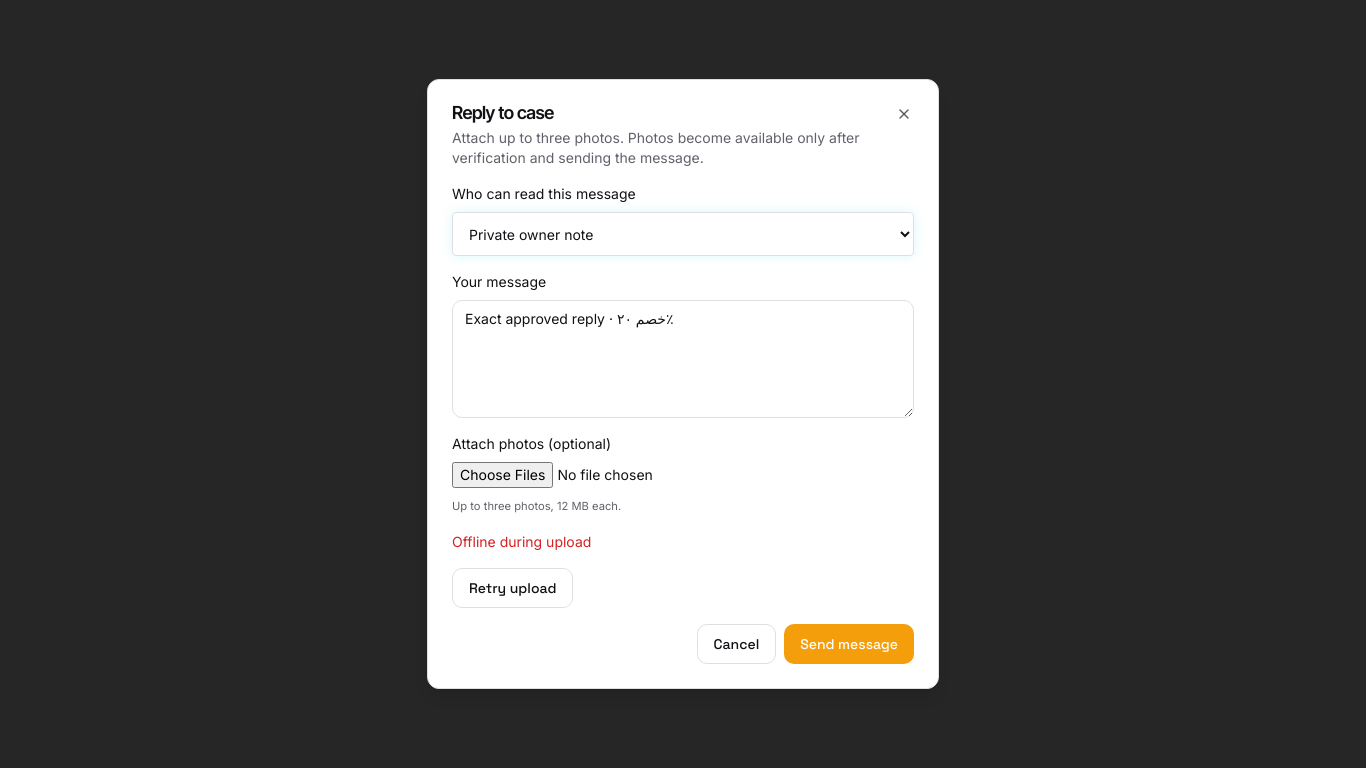
verified support uploads and recoverable reply errors › uses the authenticated upload endpoint, preserves text on failure and binds only a successfully verified photo
Earlier steps of the test are not shown.
Later steps or results of the test are not shown.
Expected: the message reads "Offline during upload", [452, 533, 591, 550]
Expected: the text box labelled "Your message" holds "Exact approved reply · خصم ٢٠٪", [452, 300, 914, 418]
Step 1. Click the button "Retry upload" → click(513, 588), box [452, 568, 573, 608]
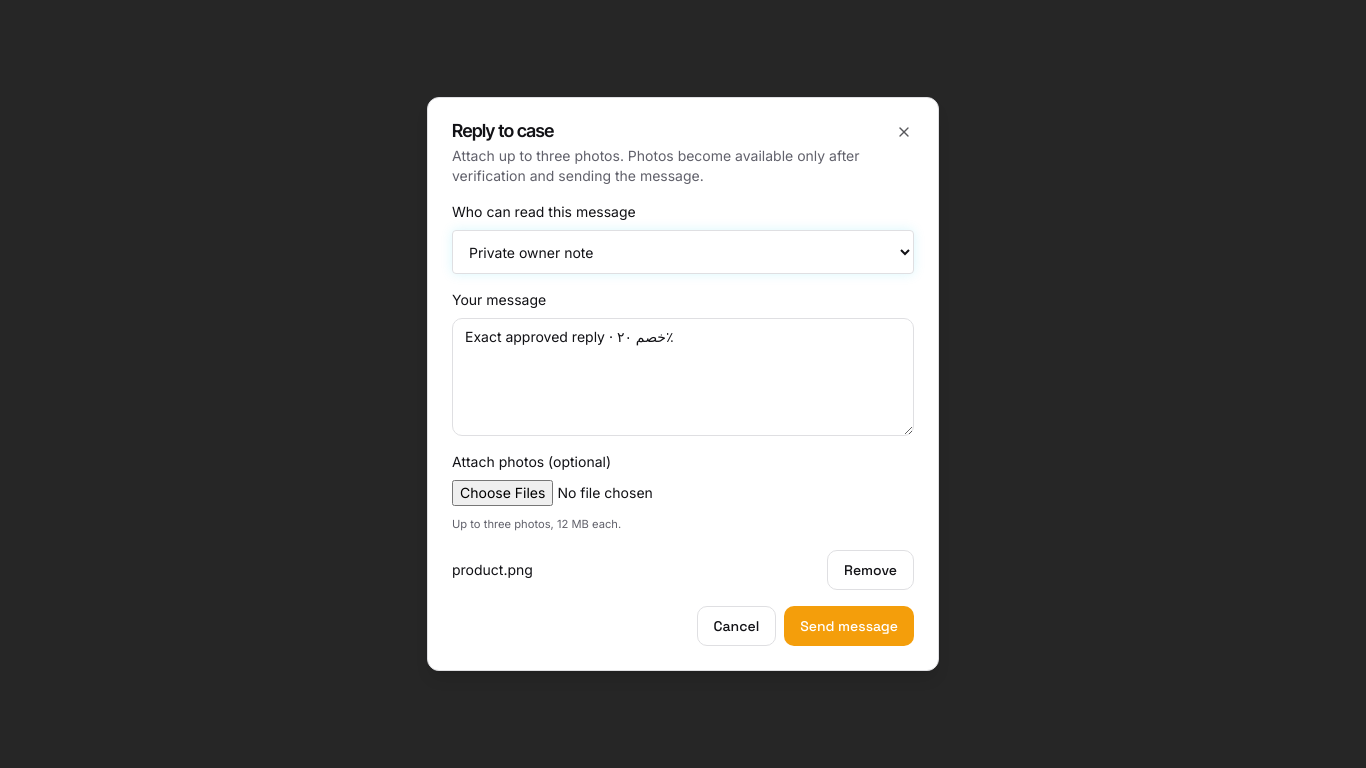
Expected: the text "product.png" is shown, [452, 561, 533, 578]
